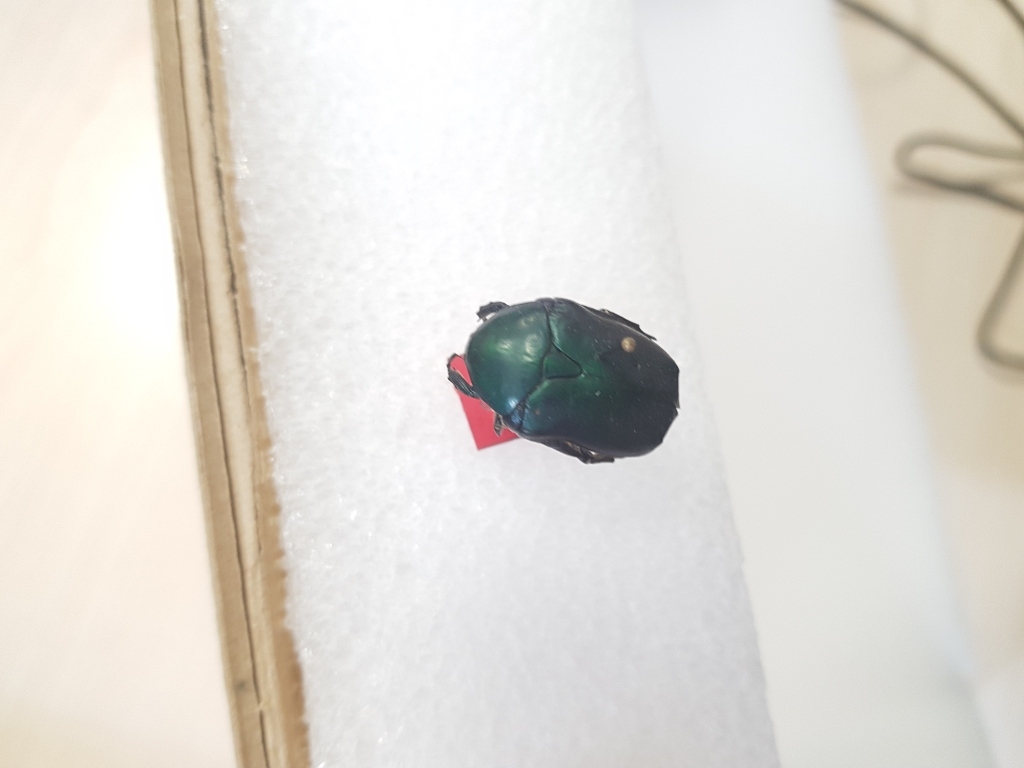Protaetia_afflicta: (446, 296, 683, 466)
